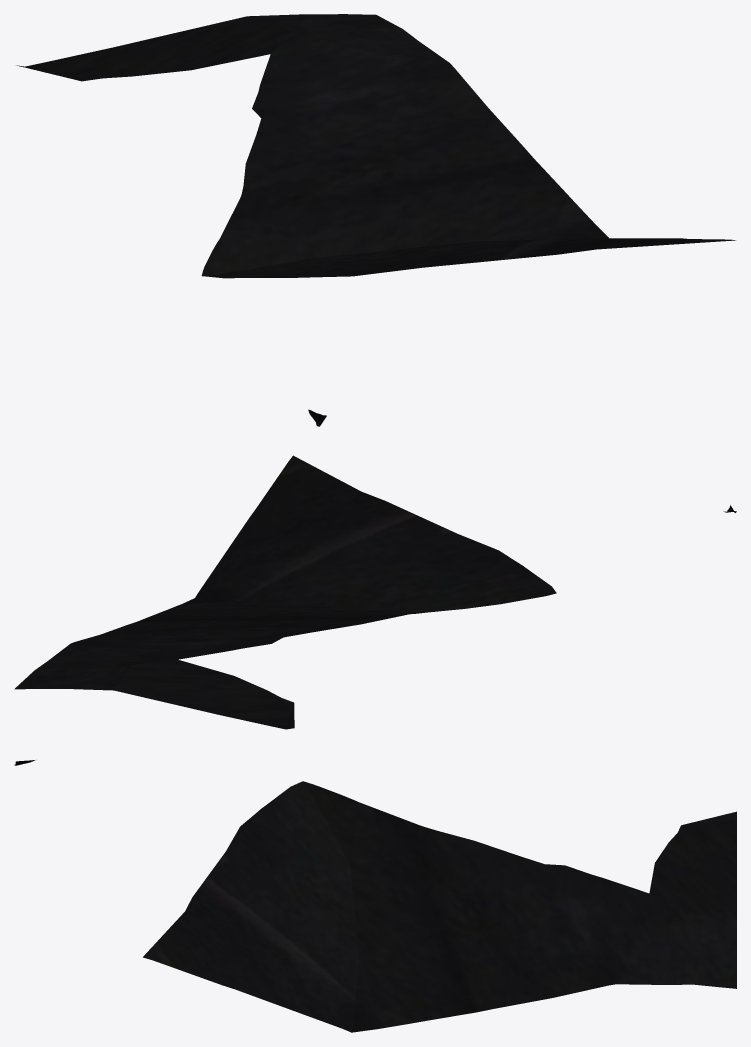
3 views of the same model, one above another, from view 1: azimuth 30°, elevation 25°; view 2: azimuth 150°, elevation 25°; view 3: azimuth 270°, elevation 25° (orthographic). The views are drawn at different scales.
Size of the model in its own units: 0.5208 by 0.0917 by 0.7975.
1 material, 1 textured.
